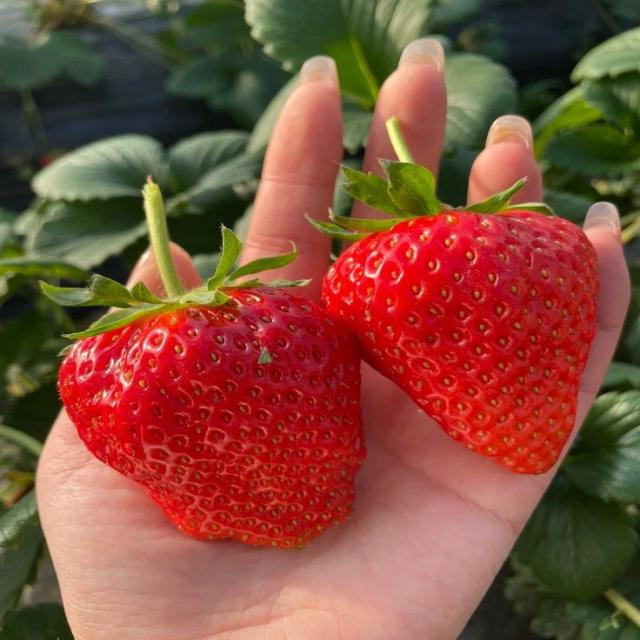strawberry: (44, 229, 364, 548), (316, 162, 598, 473)
